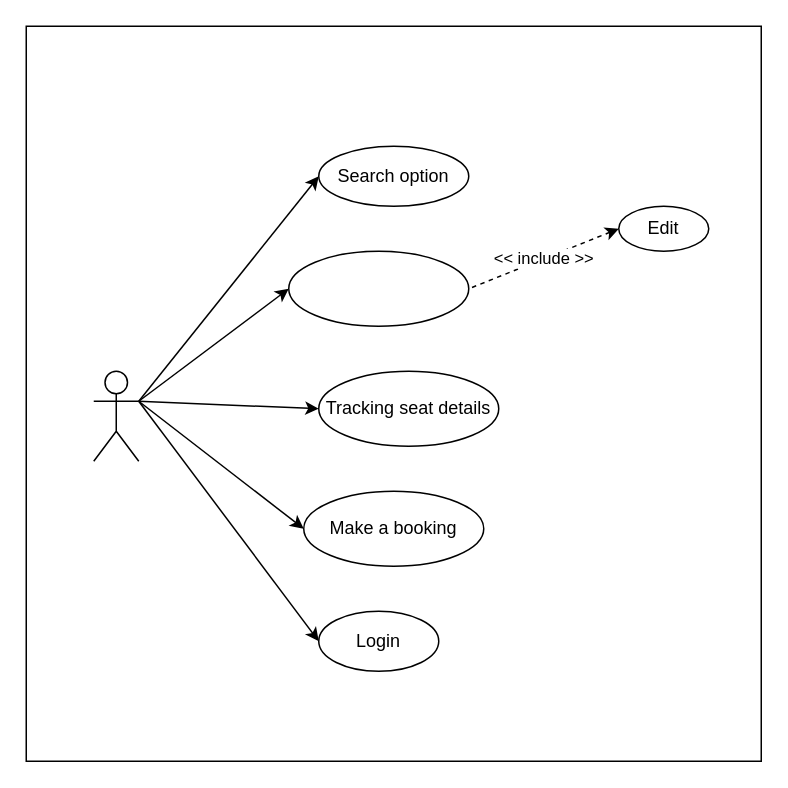
Image size: 788x788. Some labels were removed from this diagram. Here are the shapes that lost their labels. From the top down, the centre of each, then its label:
At (x=378, y=288): "Edit their information".
At (x=115, y=415): "Customer".
